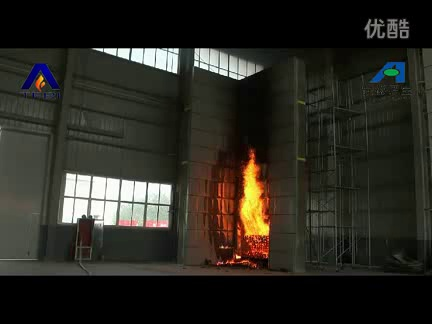fire: (236, 149, 272, 237)
